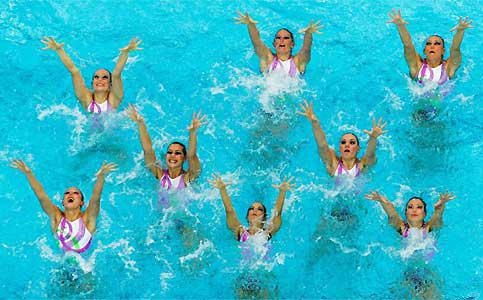human: (9, 154, 117, 258), (38, 31, 144, 116), (298, 99, 388, 181), (126, 104, 202, 199), (235, 11, 323, 91), (388, 8, 473, 88), (209, 172, 298, 246), (365, 188, 455, 244)
